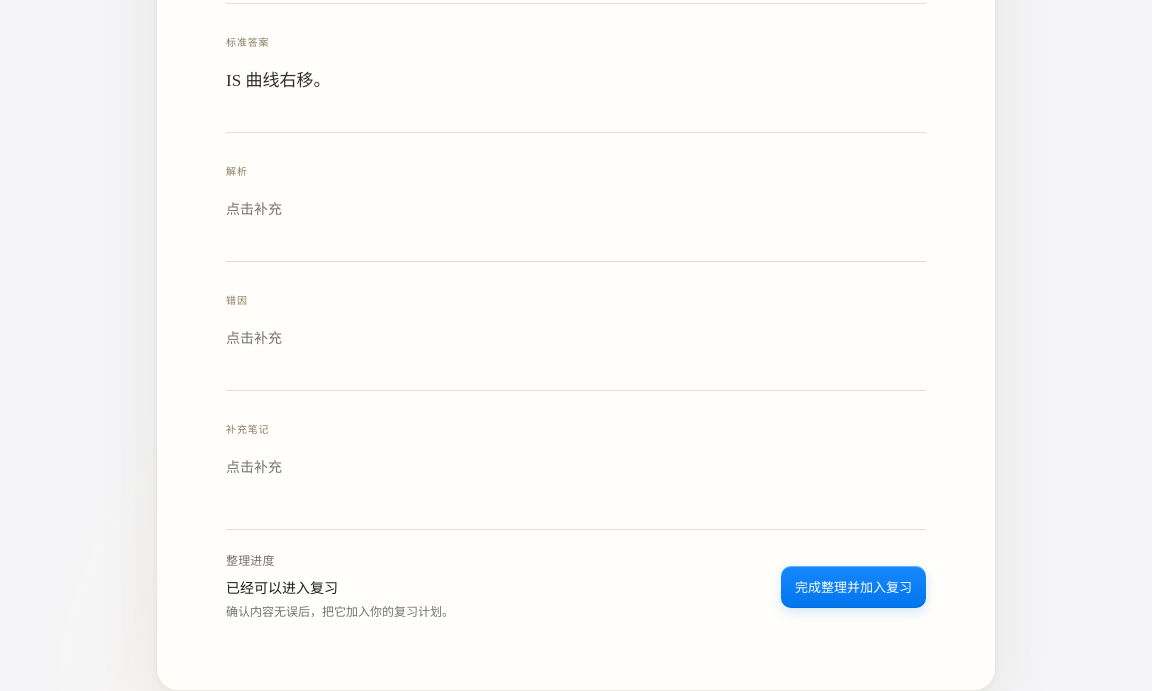
Scenario: completes an organized problem and reports the active document
(page scrolled)
Click the button "完成整理并加入复习": (853, 587) [781, 566, 926, 608]
(page scrolled)
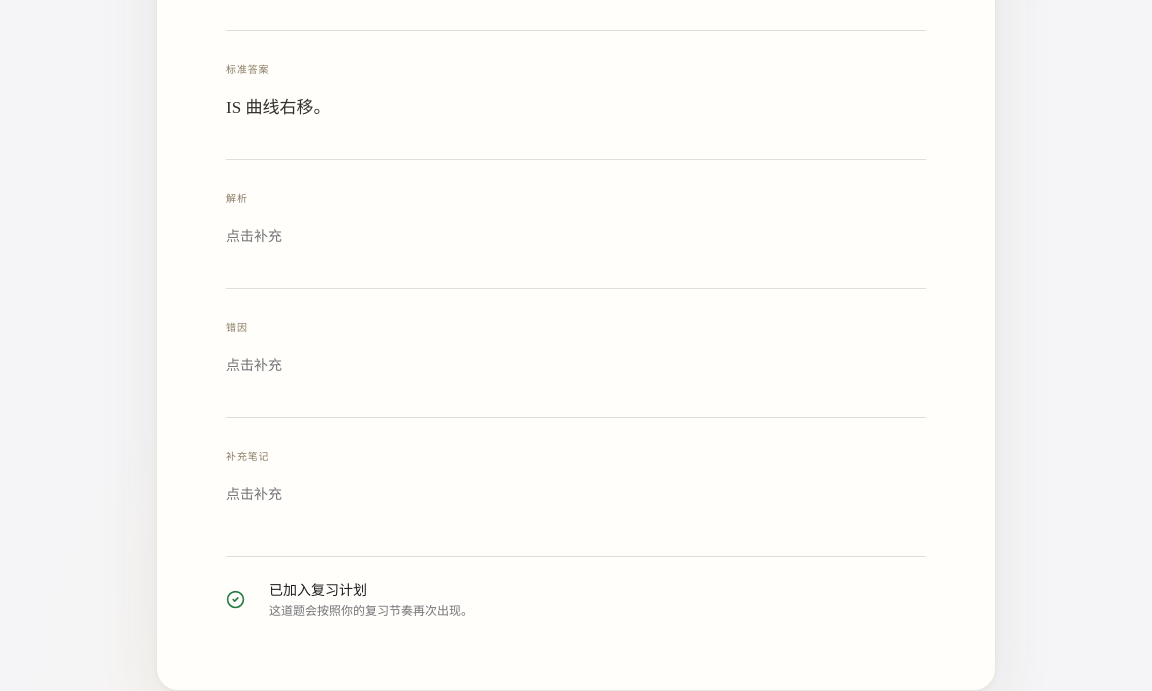
Result: the text "已加入复习计划" is shown at [269, 580, 367, 599]
